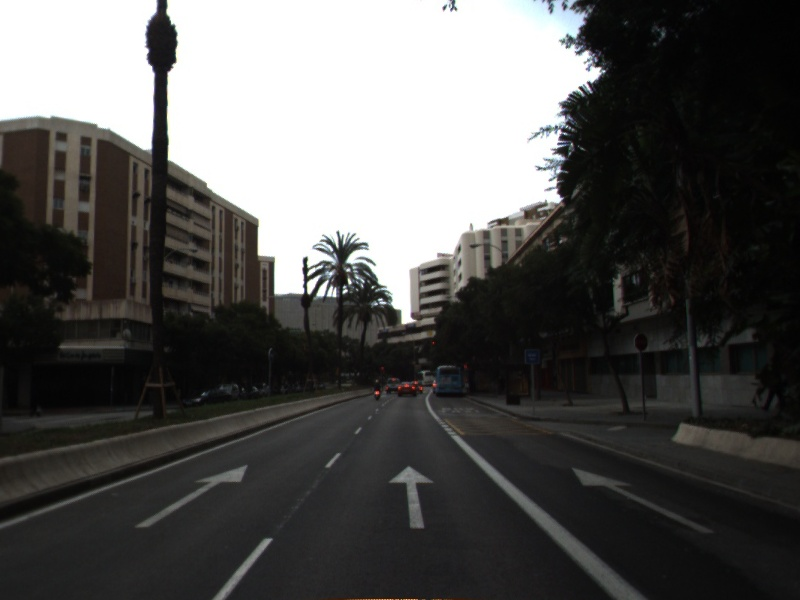STRAIGHT: (569, 465, 717, 536), (132, 463, 251, 530), (385, 463, 437, 531)
